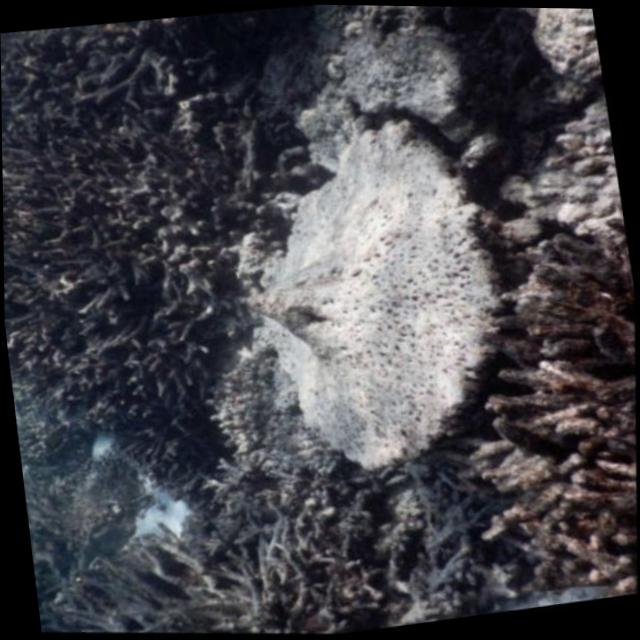Dead Coral: (0, 6, 293, 497), (56, 430, 476, 640)
